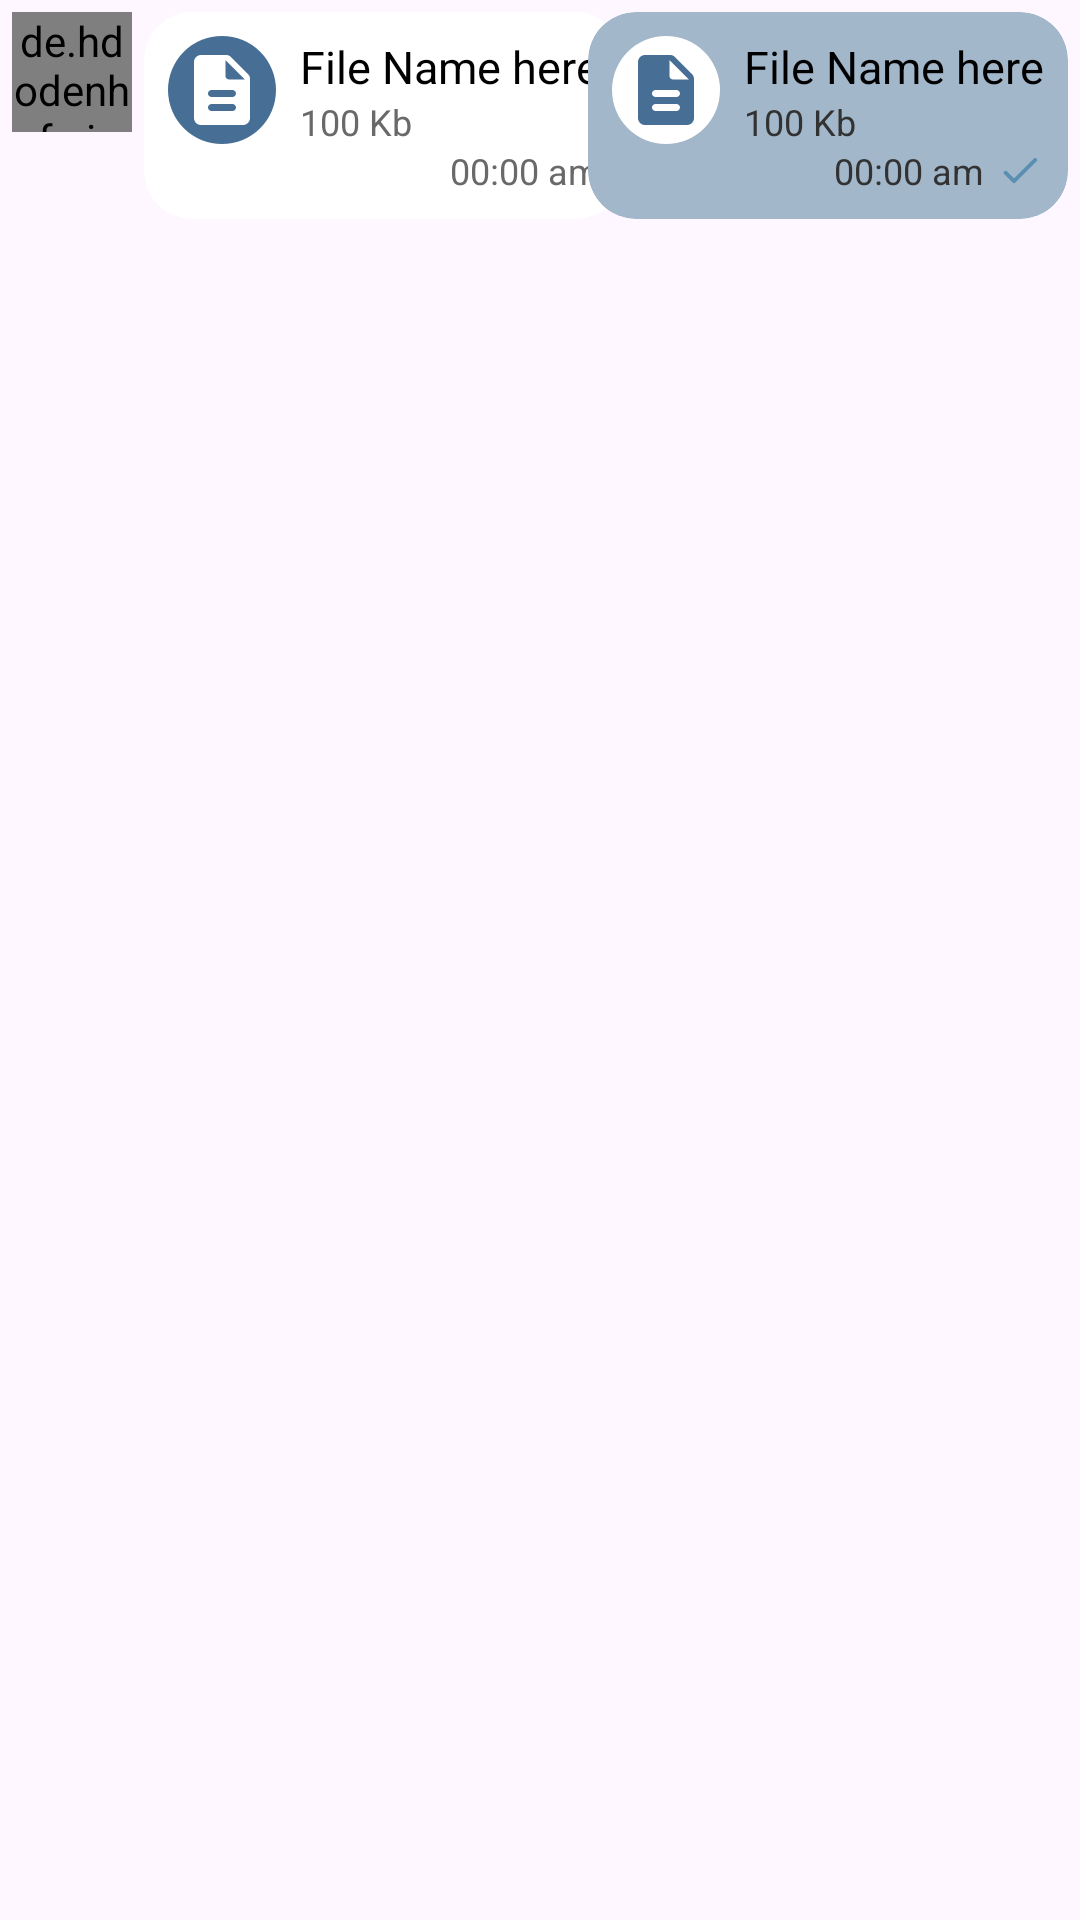

Screen size 1080px x 1920px. Icon name, then its box in pixels as (x1, y1, x2, y2):
Seen or Sent: (1004, 158, 1037, 183)
